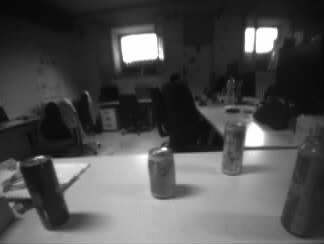Tin can: (281, 134, 323, 239), (24, 155, 69, 226), (148, 147, 175, 200), (223, 121, 243, 176)
